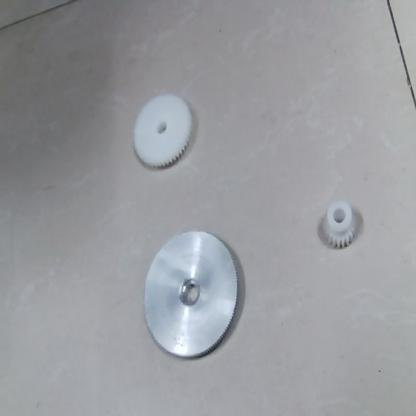FOD: (139, 228, 241, 365), (128, 88, 198, 172), (314, 196, 365, 257)
